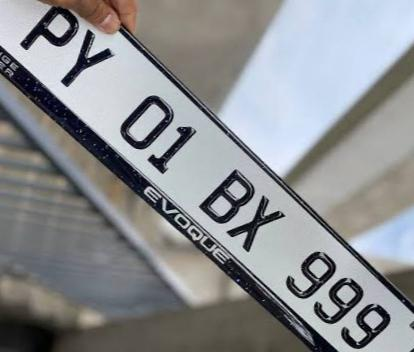0: (112, 86, 182, 162)
1: (145, 114, 208, 180)
9: (277, 238, 345, 309), (312, 265, 374, 336), (336, 293, 404, 350)
B: (193, 161, 263, 233)
P: (11, 0, 91, 65)
X: (224, 188, 294, 260)
Y: (49, 23, 121, 101)
